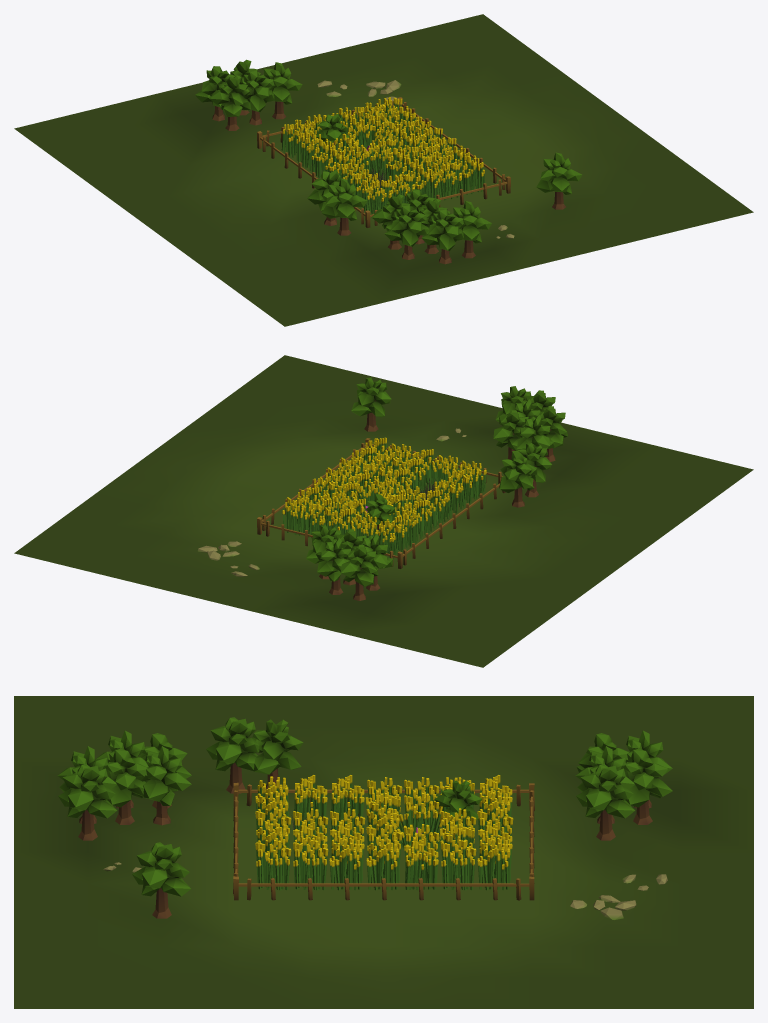
Rendered from Decor_Test.glb.
3 views of the same model, one above another, from view 1: azimuth 30°, elevation 25°; view 2: azimuth 150°, elevation 25°; view 3: azimuth 270°, elevation 25° (orthographic). The views are drawn at different scales.
Visible parts, largest first — view 1: Plane.233, Plane.314, Plane.308, Plane.306, Plane.304, Plane.302, Plane.298, Plane.303, Plane.299, Plane.301, Plane.310, Plane.253 (+12 smaller); view 2: Plane.233, Plane.310, Plane.314, Plane.301, Plane.300, Plane.309, Plane.307, Plane.308, Plane.306, Plane.265, Plane.302, Plane.266 (+12 smaller); view 3: Plane.233, Plane.298, Plane.303, Plane.314, Plane.308, Plane.309, Plane.300, Plane.310, Plane.305, Plane.243, Plane.241, Plane.250 (+36 smaller).
Part boxes in pixels (x1=…): Plane.233: x1=14, y1=14, x2=753, y2=326; Plane.314: x1=536, y1=152, x2=581, y2=209; Plane.308: x1=322, y1=178, x2=367, y2=235; Plane.306: x1=384, y1=205, x2=428, y2=259; Plane.304: x1=421, y1=209, x2=463, y2=264; Plane.302: x1=209, y1=75, x2=250, y2=130; Plane.298: x1=263, y1=62, x2=302, y2=119; Plane.303: x1=453, y1=201, x2=491, y2=258; Plane.299: x1=243, y1=70, x2=274, y2=125; Plane.301: x1=195, y1=66, x2=234, y2=121; Plane.310: x1=307, y1=169, x2=340, y2=225; Plane.253: x1=432, y1=162, x2=462, y2=200; Plane.233: x1=14, y1=355, x2=753, y2=667; Plane.310: x1=499, y1=451, x2=537, y2=507; Plane.314: x1=351, y1=377, x2=391, y2=431; Plane.301: x1=341, y1=544, x2=378, y2=600; Plane.300: x1=316, y1=538, x2=350, y2=594; Plane.309: x1=493, y1=410, x2=528, y2=459; Plane.307: x1=516, y1=415, x2=554, y2=449; Plane.308: x1=517, y1=443, x2=551, y2=497; Plane.306: x1=537, y1=406, x2=567, y2=461; Plane.265: x1=282, y1=497, x2=310, y2=535; Plane.302: x1=362, y1=533, x2=393, y2=590; Plane.266: x1=375, y1=519, x2=404, y2=558; Plane.233: x1=14, y1=696, x2=753, y2=1008; Plane.298: x1=576, y1=764, x2=634, y2=840; Plane.303: x1=58, y1=764, x2=116, y2=840; Plane.314: x1=132, y1=842, x2=190, y2=918; Plane.308: x1=206, y1=717, x2=259, y2=793; Plane.309: x1=135, y1=746, x2=191, y2=825; Plane.300: x1=623, y1=748, x2=672, y2=824; Plane.310: x1=250, y1=719, x2=303, y2=789; Plane.305: x1=105, y1=748, x2=147, y2=824; Plane.243: x1=405, y1=837, x2=438, y2=890; Plane.241: x1=293, y1=839, x2=328, y2=890; Plane.250: x1=441, y1=839, x2=476, y2=890.
Size of the model in its own units: 20 by 2.31 by 20.
